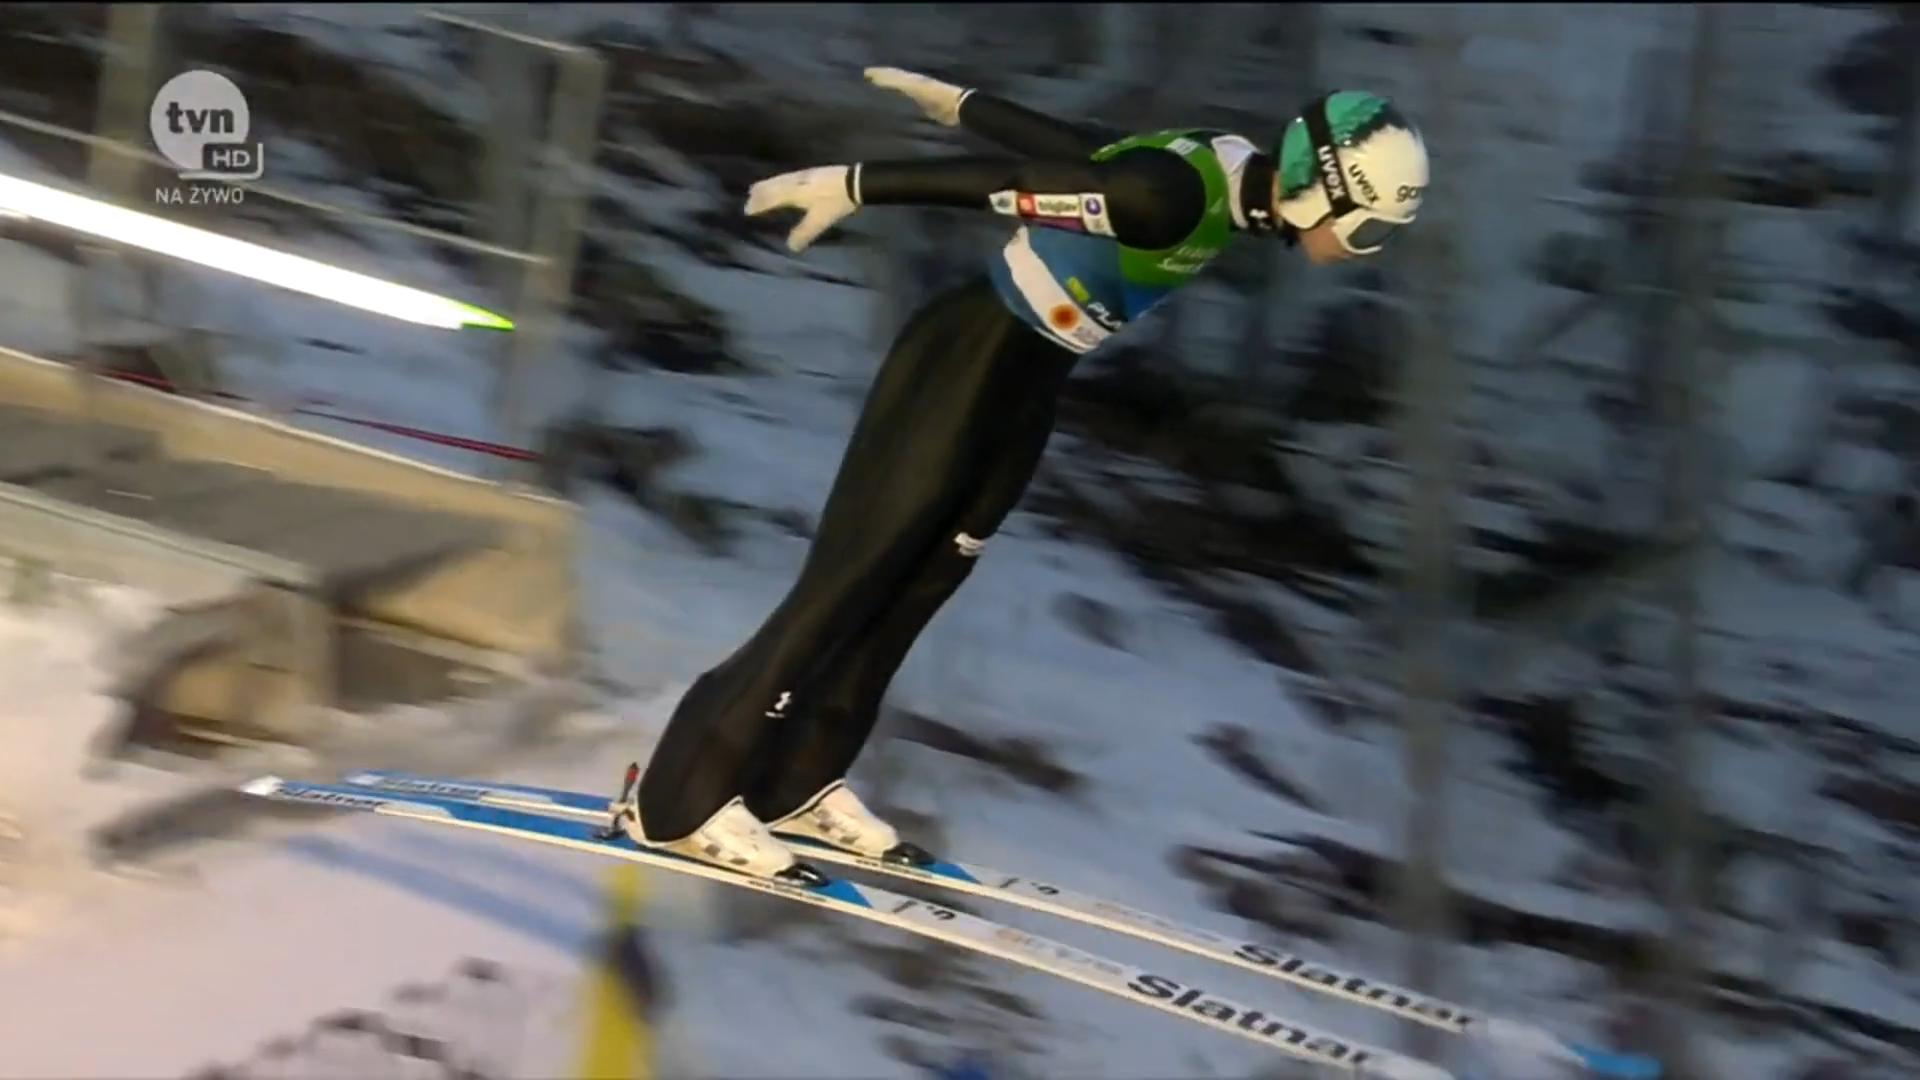prog: (190, 525, 493, 642)
